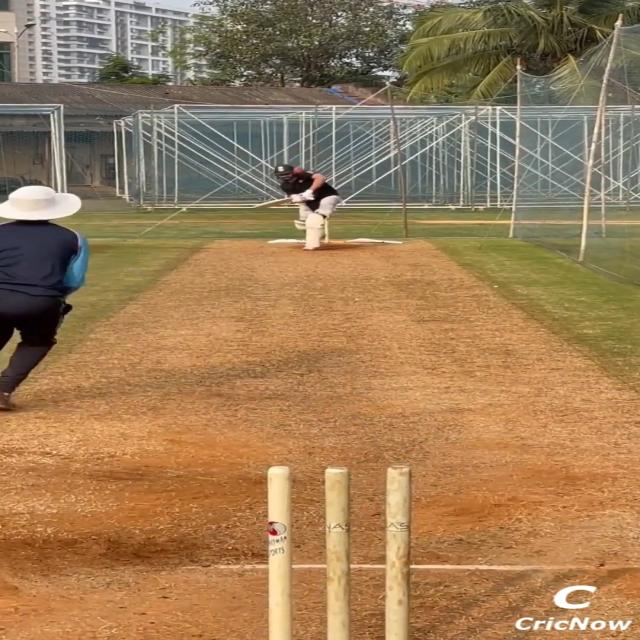ball: (292, 167, 304, 174)
stump: (266, 464, 414, 640)
